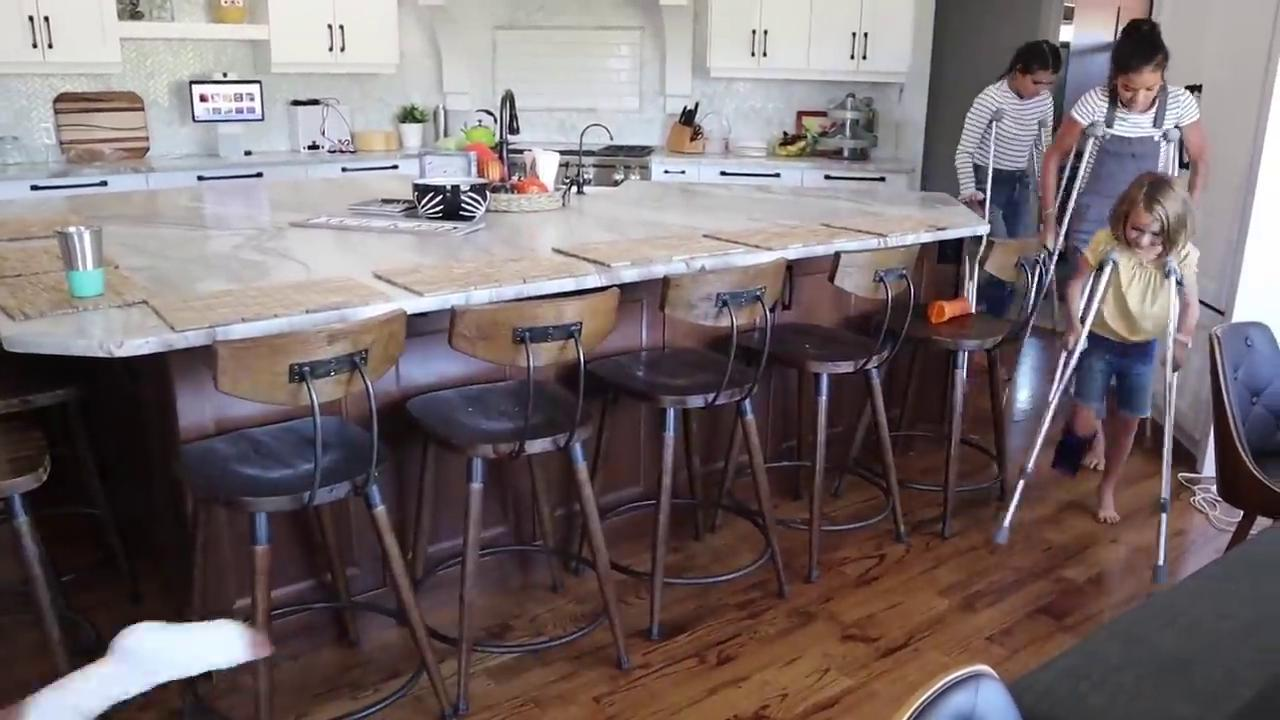crutches: (993, 172, 1201, 581)
